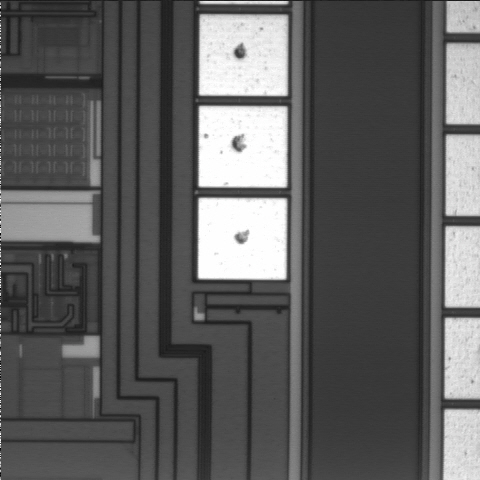pad: (198, 198, 287, 280), (199, 106, 287, 188), (199, 15, 288, 96)
